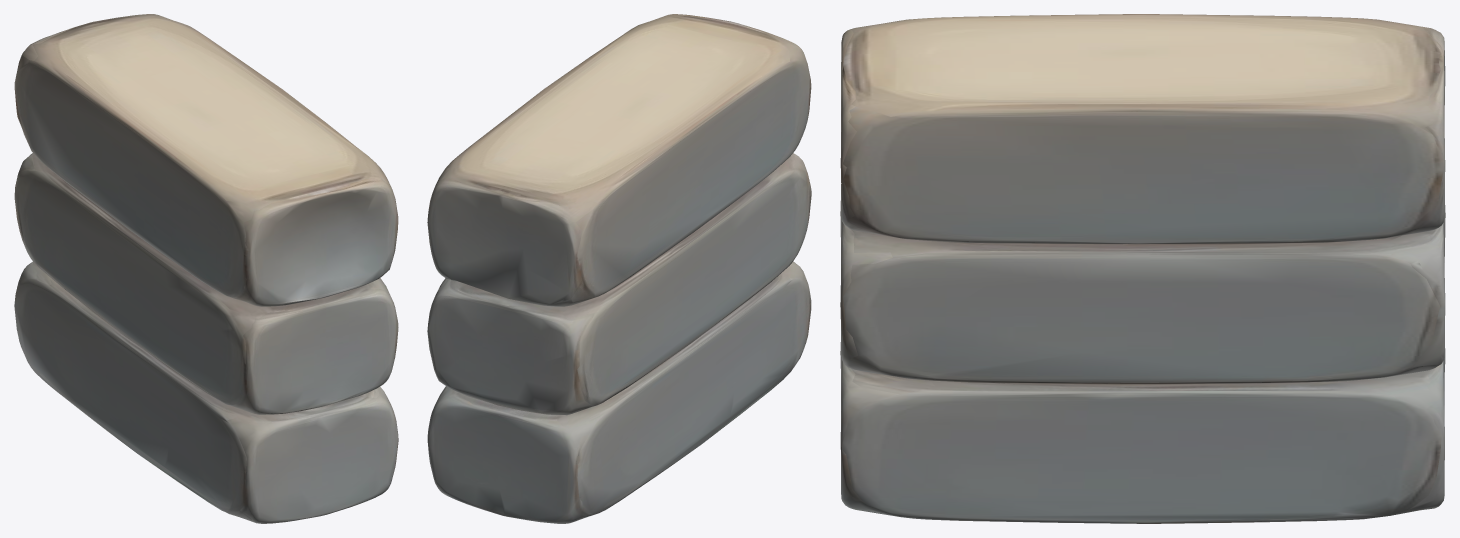
The picture shows the model from 3 angles, left to right: view 1: azimuth 30°, elevation 25°; view 2: azimuth 150°, elevation 25°; view 3: azimuth 270°, elevation 25°; orthographic projection. The views are drawn at different scales.
Parts seen in each view (by area): view 1: node_0; view 2: node_0; view 3: node_0.
Boxes of the visible parts, x1,y1,x2,y2 form: node_0: [14, 14, 398, 523]; node_0: [427, 14, 811, 523]; node_0: [840, 14, 1445, 523].
Bounding box in the file's own units: 1.07 × 2.18 × 2.86.
1 material, 1 textured.
